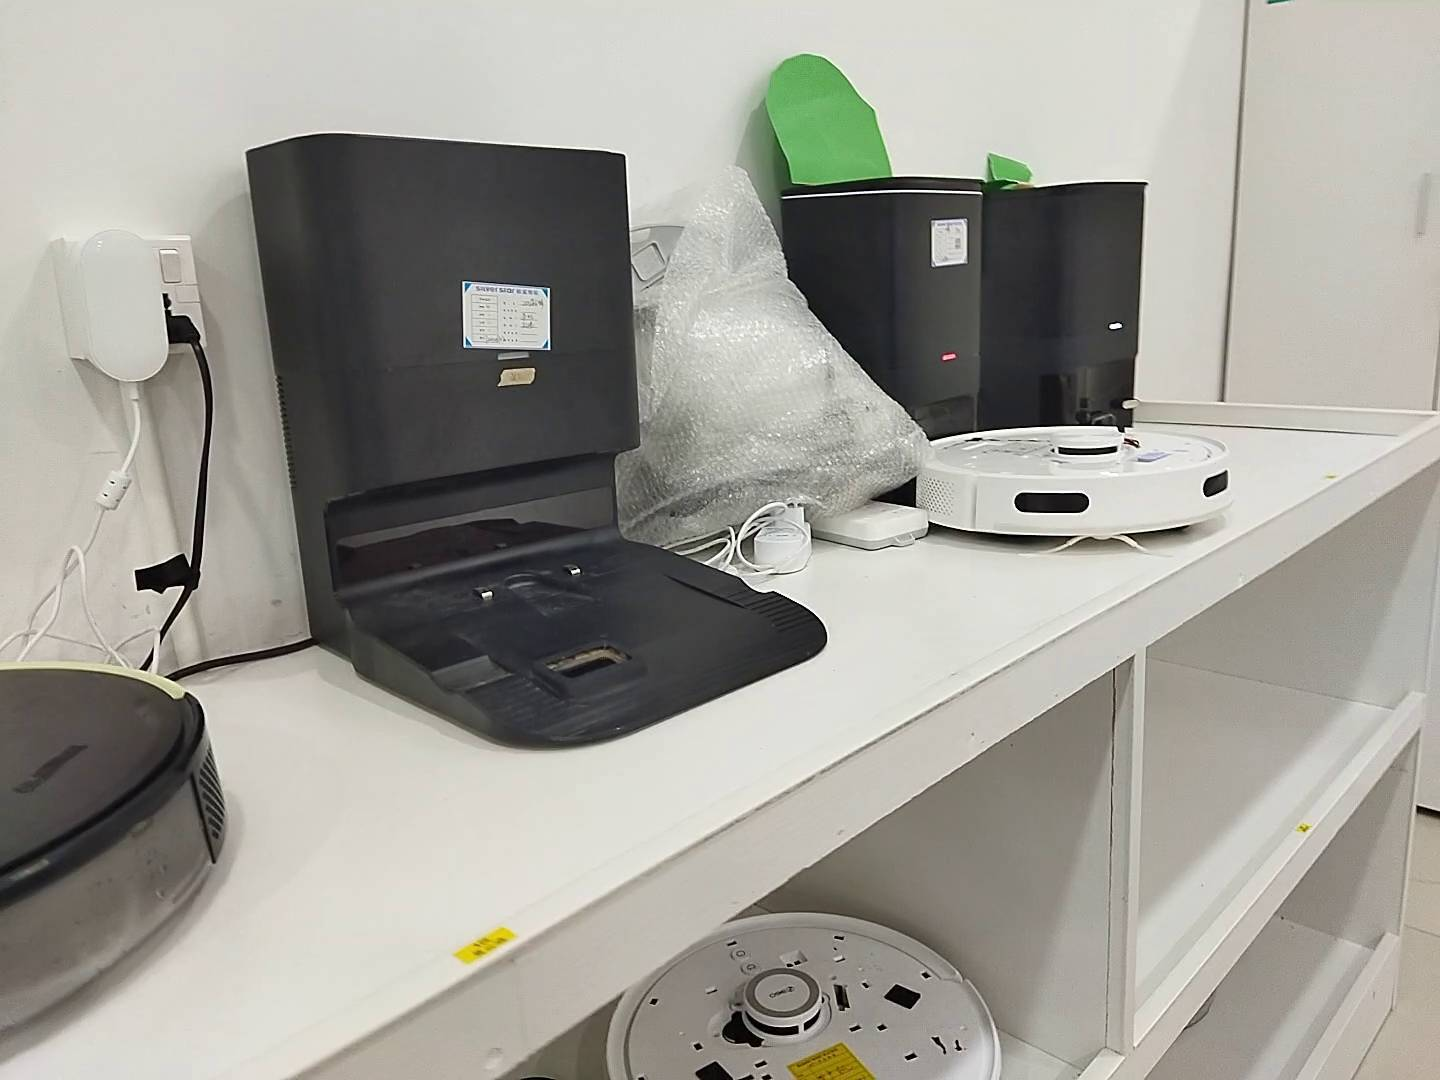dust collecting barrel: (245, 130, 828, 750), (780, 176, 986, 439), (984, 180, 1147, 430)
